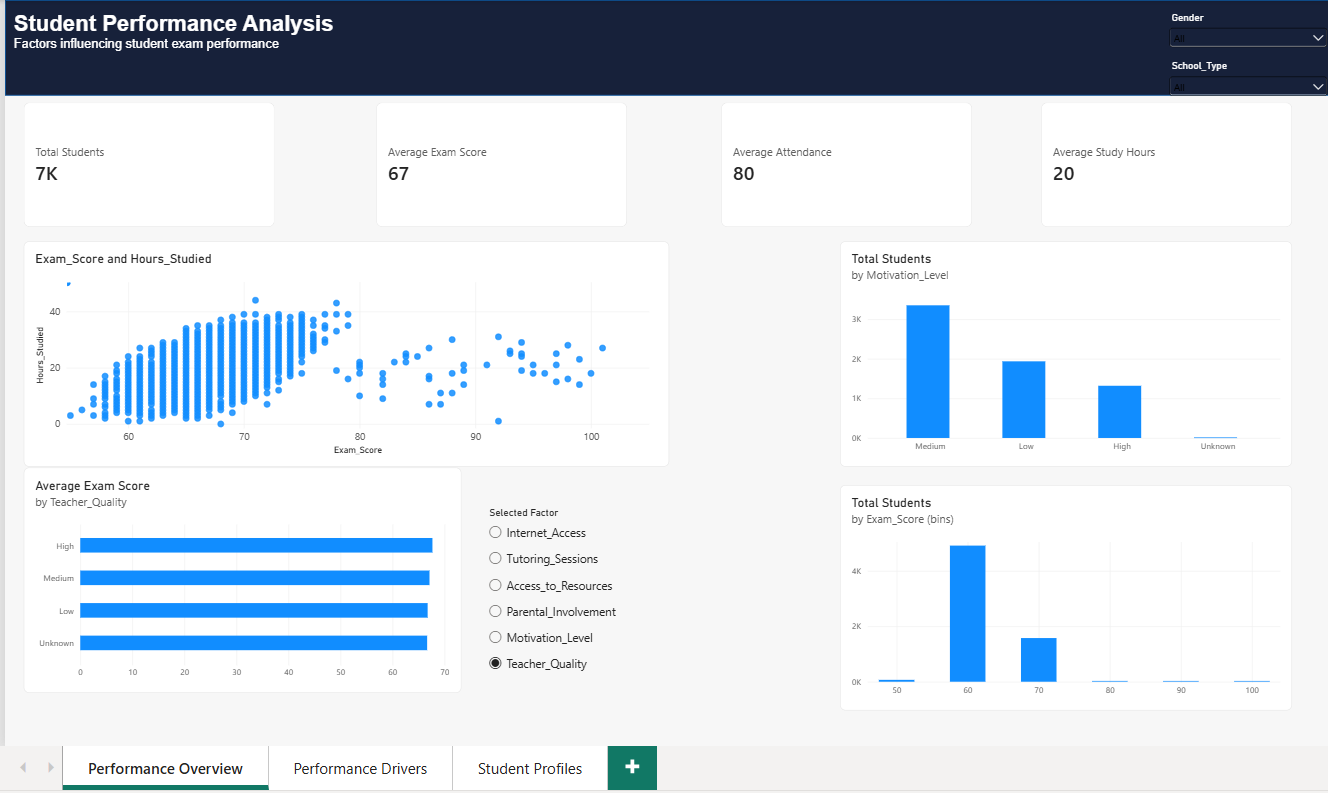

The dashboard page shown, as its layout file describes it:
{"tool":"powerbi","page":{"name":"Performance Overview","canvas":[1920,1080],"ordinal":0},"visuals":[{"type":"cardVisual","fields":{"Data":["StudentPerformanceFactors.Total Students"]},"box":[27.5,148,363.2,180.1],"z":0},{"type":"cardVisual","fields":{"Data":["StudentPerformanceFactors.Average Exam Score"]},"box":[537.2,148,363.2,180.1],"z":1000},{"type":"cardVisual","fields":{"Data":["StudentPerformanceFactors.Average Attendance"]},"box":[1037.8,148,363.2,180.1],"z":2000},{"type":"cardVisual","fields":{"Data":["StudentPerformanceFactors.Average Study Hours"]},"box":[1500.3,148,363.2,180.1],"z":3000},{"type":"clusteredColumnChart","fields":{"Category":["StudentPerformanceFactors.Exam_Score (bins)"],"Y":["StudentPerformanceFactors.Total Students"]},"box":[1208.8,702.1,654.8,326.6],"z":4000},{"type":"clusteredColumnChart","fields":{"Category":["StudentPerformanceFactors.Motivation_Level"],"Y":["StudentPerformanceFactors.Total Students"]},"box":[1208.8,349.5,654.8,326.6],"z":5000},{"type":"clusteredBarChart","fields":{"Category":["StudentPerformanceFactors.Teacher_Quality"],"Y":["StudentPerformanceFactors.Average Exam Score"]},"box":[27.5,676.1,633.4,326.6],"z":6000},{"type":"slicer","fields":{"Values":["Selected Factor.Selected Factor"]},"box":[693.5,732.7,206.8,263.8],"z":7000},{"type":"scatterChart","fields":{"X":["StudentPerformanceFactors.Exam_Score"],"Y":["StudentPerformanceFactors.Hours_Studied"]},"box":[26.6,349.8,934.2,326.2],"z":8000},{"type":"shape","box":[0,0,1920.6,138.3],"z":9000},{"type":"textbox","box":[12,16,706.3,89.1],"z":10000},{"type":"slicer","fields":{"Values":["StudentPerformanceFactors.Gender"]},"box":[1681.8,16.1,237.8,52.4],"z":11000},{"type":"slicer","fields":{"Values":["StudentPerformanceFactors.School_Type"]},"box":[1681.8,86,237.8,52.4],"z":12000}]}

Visuals, with their boxes on the page's 1920x1080 design canvas (x1, y1, x2, y2). These are canvas units, not pixel positions in the 1328x793 screenshot, which may show the page scaled, cropped or inside an application window:
cardVisual - StudentPerformanceFactors.Total Students: l=28, t=148, r=391, b=328
cardVisual - StudentPerformanceFactors.Average Exam Score: l=537, t=148, r=900, b=328
cardVisual - StudentPerformanceFactors.Average Attendance: l=1038, t=148, r=1401, b=328
cardVisual - StudentPerformanceFactors.Average Study Hours: l=1500, t=148, r=1864, b=328
clusteredColumnChart - StudentPerformanceFactors.Exam_Score (bins) x StudentPerformanceFactors.Total Students: l=1209, t=702, r=1864, b=1029
clusteredColumnChart - StudentPerformanceFactors.Motivation_Level x StudentPerformanceFactors.Total Students: l=1209, t=350, r=1864, b=676
clusteredBarChart - StudentPerformanceFactors.Teacher_Quality x StudentPerformanceFactors.Average Exam Score: l=28, t=676, r=661, b=1003
slicer - Selected Factor.Selected Factor: l=694, t=733, r=900, b=996
scatterChart - StudentPerformanceFactors.Exam_Score x StudentPerformanceFactors.Hours_Studied: l=27, t=350, r=961, b=676
shape: l=0, t=0, r=1921, b=138
textbox: l=12, t=16, r=718, b=105
slicer - StudentPerformanceFactors.Gender: l=1682, t=16, r=1920, b=68
slicer - StudentPerformanceFactors.School_Type: l=1682, t=86, r=1920, b=138
